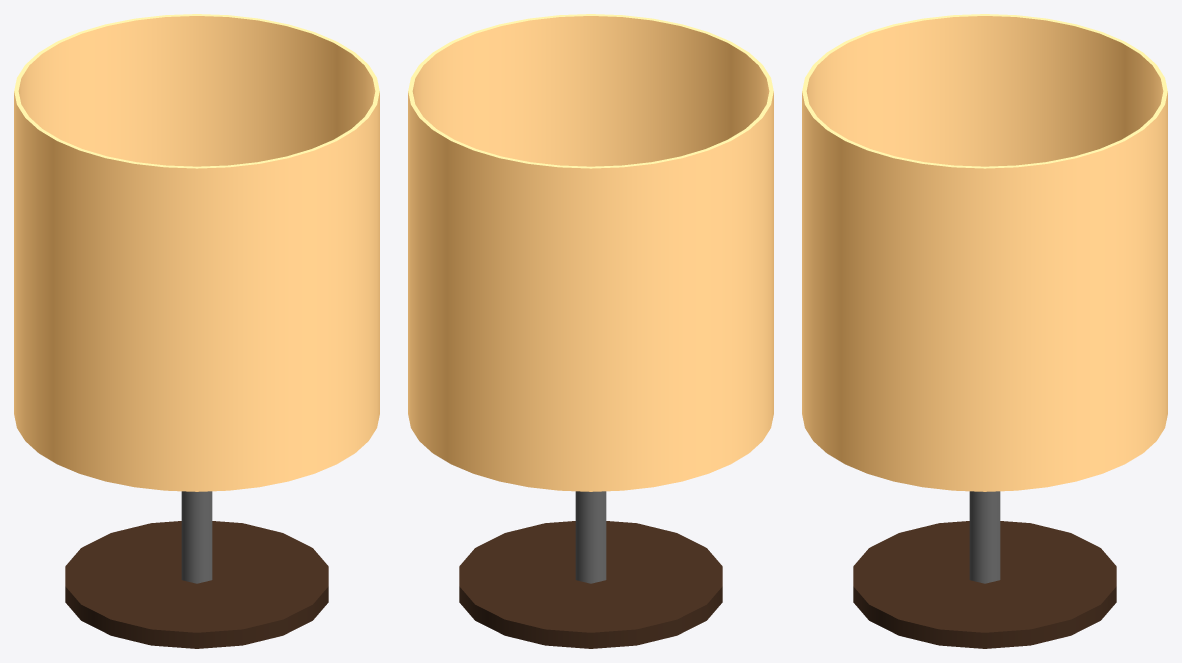
The model's file is Table_Lamp_ShortRoundBase_TallRoundShade.fbx.
3 renders of one model, left to right at view 1: azimuth 30°, elevation 25°; view 2: azimuth 150°, elevation 25°; view 3: azimuth 270°, elevation 25°, orthographic.
Parts seen in each view (by area): view 1: Table_Lamp_ShortRoundBase_TallRoundShade; view 2: Table_Lamp_ShortRoundBase_TallRoundShade; view 3: Table_Lamp_ShortRoundBase_TallRoundShade.
Boxes of the visible parts, x1,y1,x2,y2 form: Table_Lamp_ShortRoundBase_TallRoundShade: (14,14,379,648); Table_Lamp_ShortRoundBase_TallRoundShade: (408,14,773,648); Table_Lamp_ShortRoundBase_TallRoundShade: (802,14,1167,648).
Bounding box in the file's own units: 30.75 × 46.5 × 30.75.
